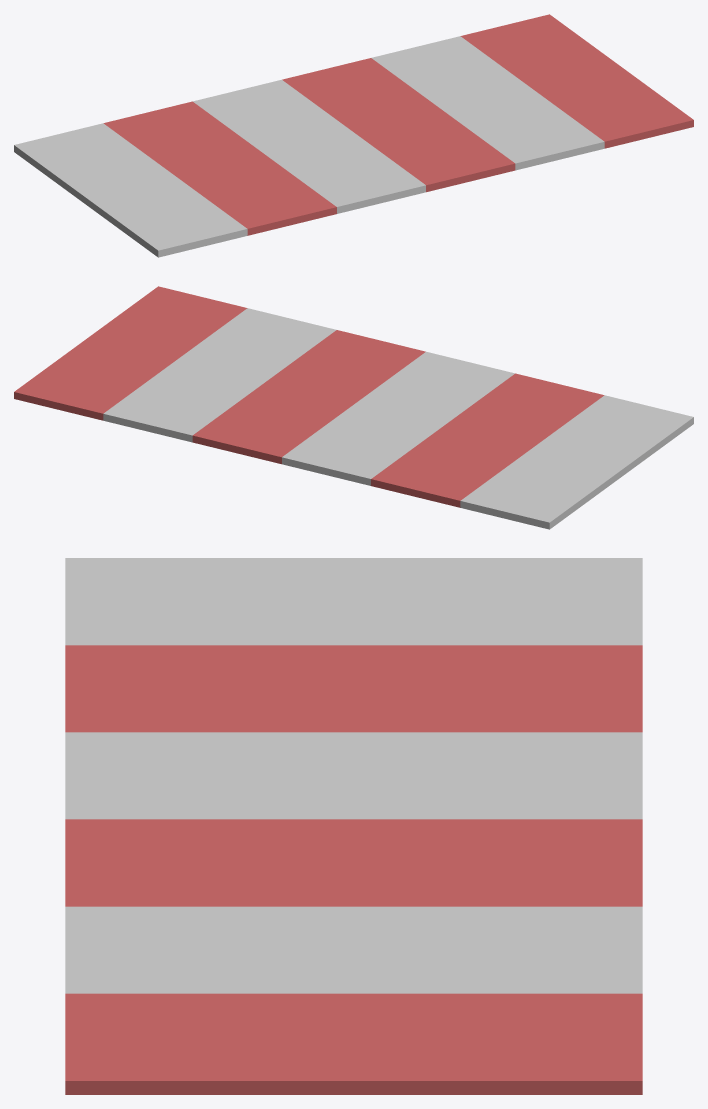
File: towel.fbx
The picture shows the model from 3 angles, top to bottom: view 1: azimuth 30°, elevation 25°; view 2: azimuth 150°, elevation 25°; view 3: azimuth 270°, elevation 25°; orthographic projection. The views are drawn at different scales.
Visible parts, largest first — view 1: Cube; view 2: Cube; view 3: Cube.
Part boxes in pixels (x1,y1,x2,y2): Cube: (14,14,693,257); Cube: (14,286,693,529); Cube: (65,558,642,1094).
Size of the model in its own units: 1200 by 15 by 560.
